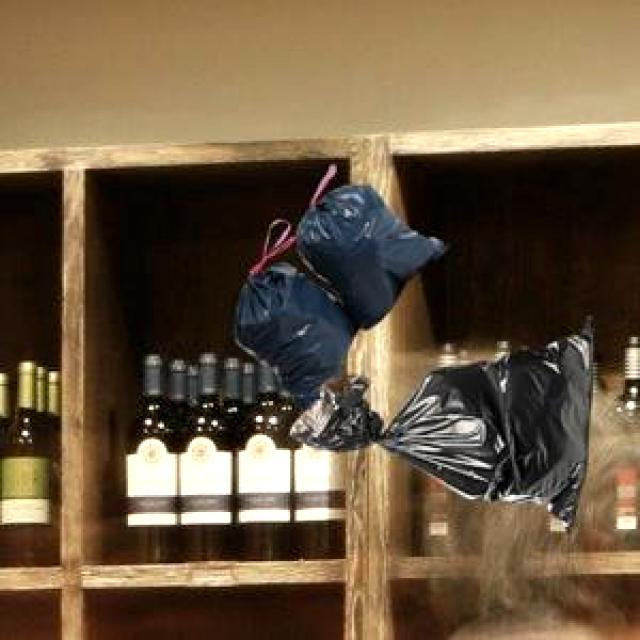Garbage_Bag: (287, 314, 590, 530), (232, 164, 444, 408)
